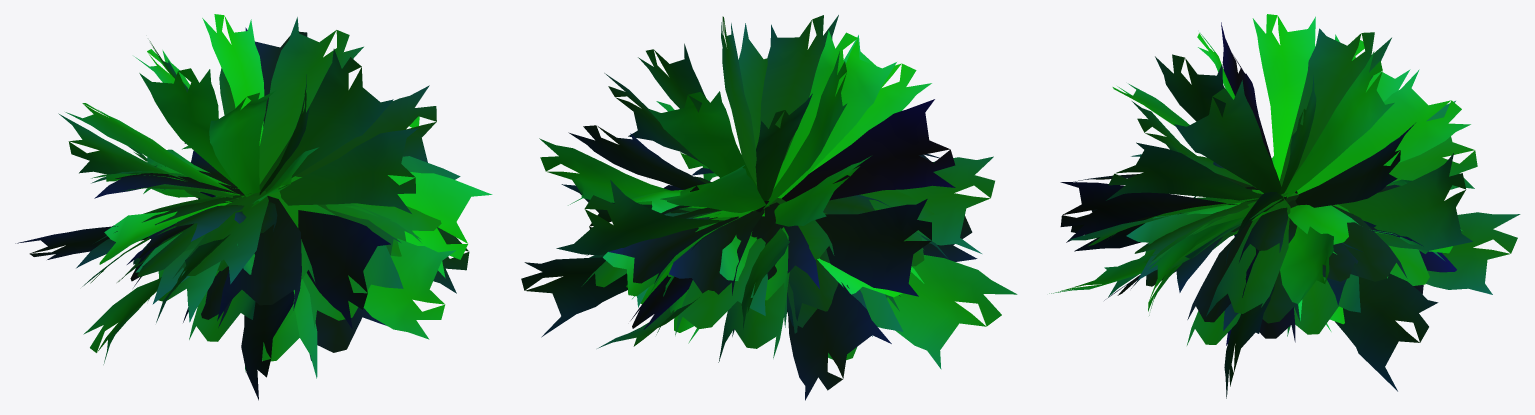
Rendered from Fountain_Mesh.fbx.
The picture shows the model from 3 angles, left to right: view 1: azimuth 30°, elevation 25°; view 2: azimuth 150°, elevation 25°; view 3: azimuth 270°, elevation 25°; orthographic projection. The views are drawn at different scales.
Parts seen in each view (by area): view 1: Fountain_LOD0; view 2: Fountain_LOD0; view 3: Fountain_LOD0.
Part boxes in pixels (<box>): Fountain_LOD0: <box>15,14,492,400</box>; Fountain_LOD0: <box>521,15,1017,400</box>; Fountain_LOD0: <box>1049,14,1520,398</box>.
Bounding box in the file's own units: 433 × 279 × 436.
